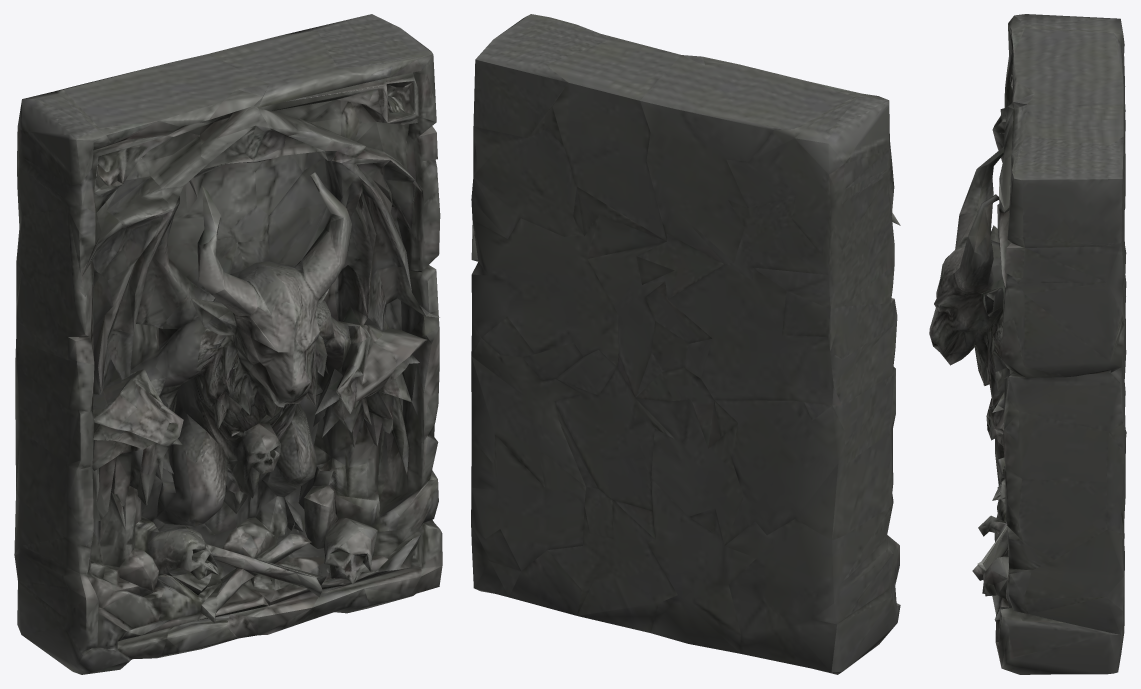
File: obj_deco_demon_2.glb
3 views of the same model, side by side, from view 1: azimuth 30°, elevation 25°; view 2: azimuth 150°, elevation 25°; view 3: azimuth 270°, elevation 25° (orthographic). The views are drawn at different scales.
Parts seen in each view (by area): view 1: Mesh_0; view 2: Mesh_0; view 3: Mesh_0.
Part boxes in pixels (x1=…): Mesh_0: x1=14, y1=14, x2=442, y2=674; Mesh_0: x1=471, y1=14, x2=900, y2=674; Mesh_0: x1=929, y1=14, x2=1126, y2=674.
Size of the model in its own units: 1.36 by 1.9 by 0.6755.
1 material, 1 textured.
